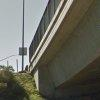Bridge: (20, 5, 89, 89)
